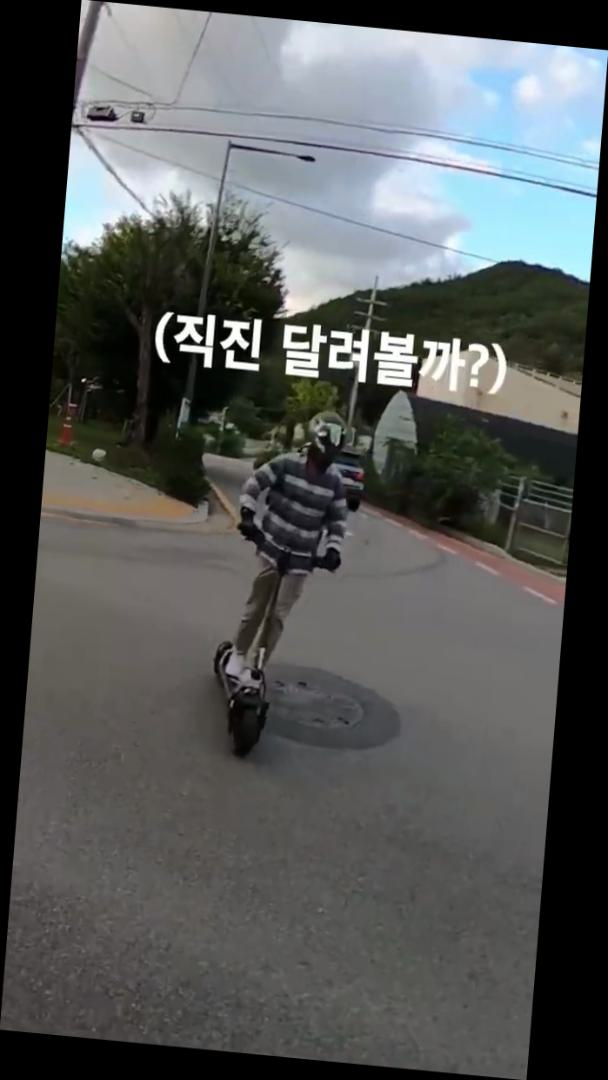helmet: (202, 397, 358, 771)
